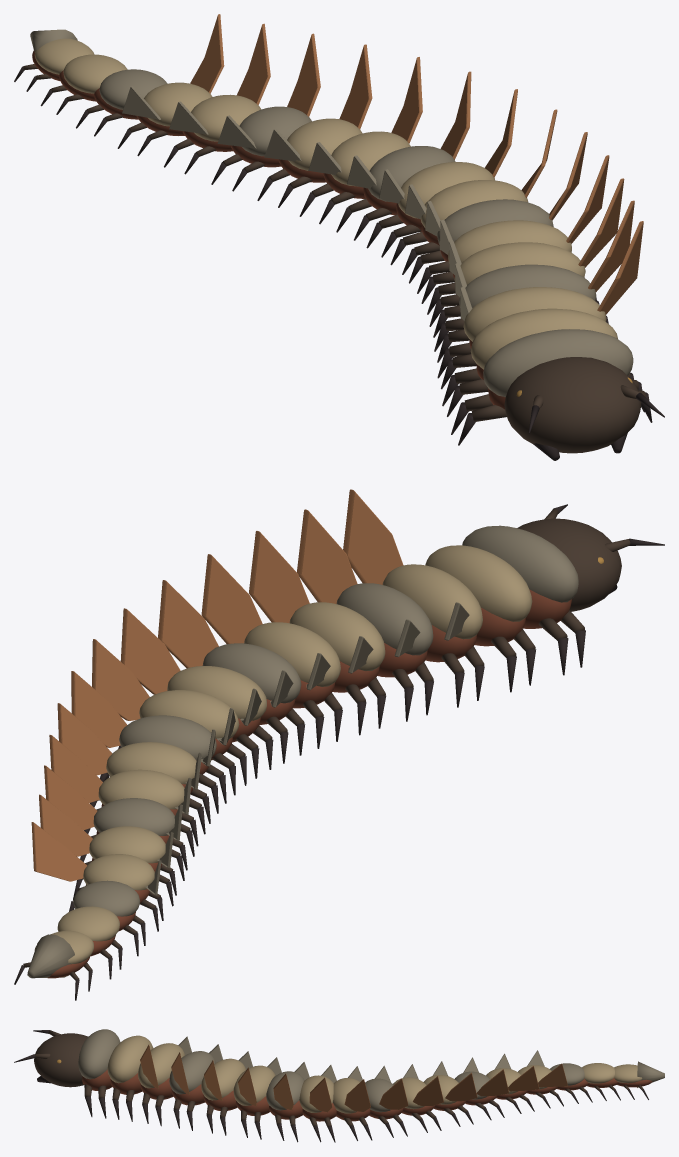
Rendered from RattleMillipede.glb.
3 renders of one model, top to bottom at view 1: azimuth 30°, elevation 25°; view 2: azimuth 150°, elevation 25°; view 3: azimuth 270°, elevation 25°, orthographic. The views are drawn at different scales.
Parts seen in each view (by area): view 1: Blunt sensory head, Dorsal segment 01, Dorsal segment 02, Dorsal segment 03, Dorsal segment 04, Dorsal segment 05, Dorsal segment 06, Dorsal segment 07, Dorsal segment 08, Dorsal segment 09, Dorsal segment 10, Dorsal segment 11 (+24 smaller); view 2: Dorsal segment 01, Dorsal segment 02, Blunt sensory head, Dorsal segment 03, Dorsal segment 04, Raised rattle plate 03, Raised rattle plate 04, Dorsal segment 05, Raised rattle plate 05, Raised rattle plate 06, Dorsal segment 06, Raised rattle plate 07 (+26 smaller); view 3: Blunt sensory head, Dorsal segment 01, Dorsal segment 02, Dorsal segment 03, Dorsal segment 04, Dorsal segment 05, Dorsal segment 06, Dorsal segment 07, Dorsal segment 08, Dorsal segment 10, Dorsal segment 09, Raised rattle plate 10 (+32 smaller).
Part boxes in pixels (x1,y1,x2,y2): Blunt sensory head: (504,357,641,453); Dorsal segment 01: (483,329,633,397); Dorsal segment 02: (470,308,617,369); Dorsal segment 03: (463,287,606,341); Dorsal segment 04: (459,264,596,307); Dorsal segment 05: (454,242,585,284); Dorsal segment 06: (448,220,571,263); Dorsal segment 07: (437,199,553,244); Dorsal segment 08: (420,180,528,227); Dorsal segment 09: (398,162,495,218); Dorsal segment 10: (368,146,455,202); Dorsal segment 11: (331,131,410,186); Dorsal segment 01: (462,525,578,602); Dorsal segment 02: (425,545,532,621); Blunt sensory head: (517,518,621,611); Dorsal segment 03: (382,564,482,639); Dorsal segment 04: (336,583,433,655); Raised rattle plate 03: (343,489,403,584); Raised rattle plate 04: (297,509,357,603); Dorsal segment 05: (289,602,385,670); Raised rattle plate 05: (249,531,309,623); Raised rattle plate 06: (201,554,262,643); Dorsal segment 06: (244,622,340,686); Raised rattle plate 07: (158,580,218,668); Blunt sensory head: (34,1033,88,1087); Dorsal segment 01: (78,1029,120,1079); Dorsal segment 02: (107,1035,153,1083); Dorsal segment 03: (138,1043,185,1088); Dorsal segment 04: (169,1051,215,1094); Dorsal segment 05: (201,1058,246,1100); Dorsal segment 06: (233,1065,275,1105); Dorsal segment 07: (266,1071,304,1110); Dorsal segment 08: (299,1075,333,1112); Dorsal segment 10: (365,1078,393,1112); Dorsal segment 09: (333,1078,359,1113); Raised rattle plate 10: (379,1078,408,1109).
Size of the model in its own units: 1.07 by 0.5317 by 3.73.
